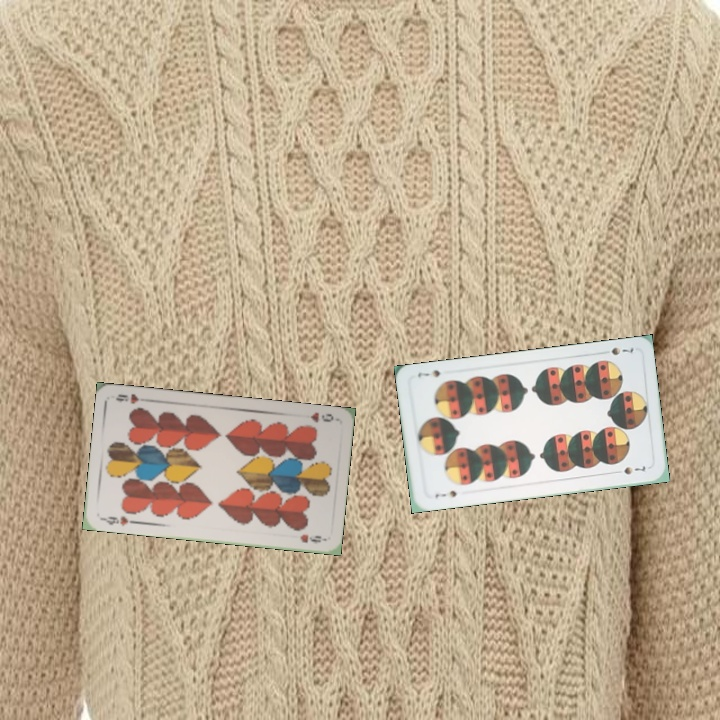H9: (98, 512, 131, 528), (306, 408, 336, 425)
S7: (607, 343, 636, 358), (431, 486, 459, 500)
